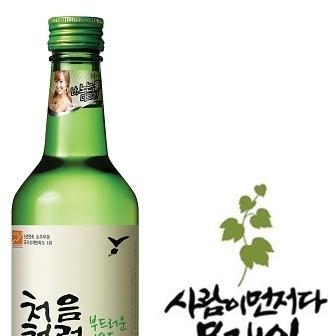soju: (8, 11, 142, 336)
